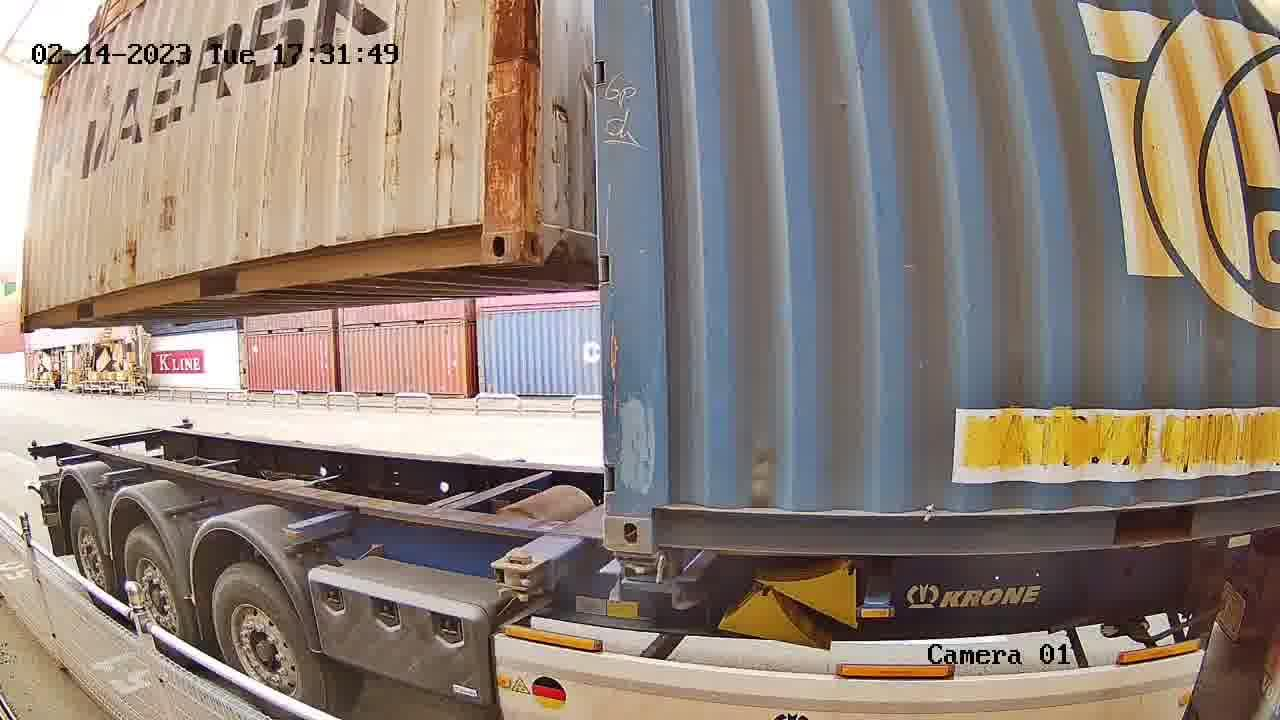Cone: (490, 549, 547, 606), (612, 553, 669, 589)
Hole_L: (603, 470, 697, 555), (522, 205, 569, 262)
Hole_R: (451, 205, 522, 266)
Tire: (210, 564, 316, 715), (123, 529, 192, 655), (69, 504, 114, 600)
